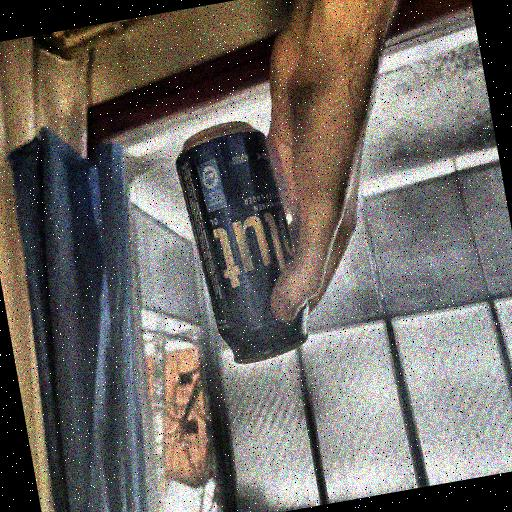koti: (172, 118, 317, 392)
